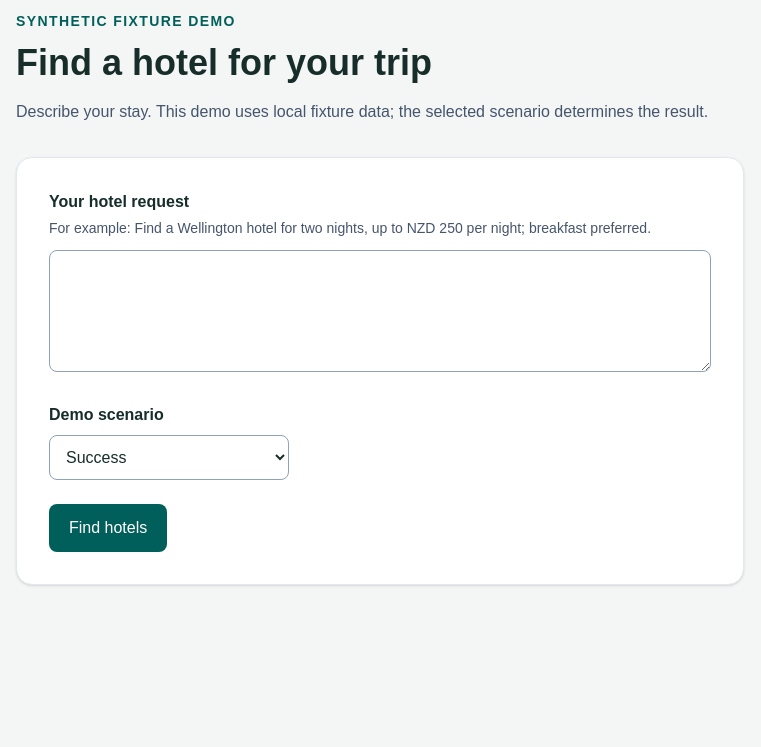
it: recommendation request journey › handles a network failure with preserved input and manual retry
This screenshot has width=761, height=747.
In the text box labelled "Your hotel request": (380, 311) [49, 250, 711, 372], type "Find a Wellington hotel for two nights."
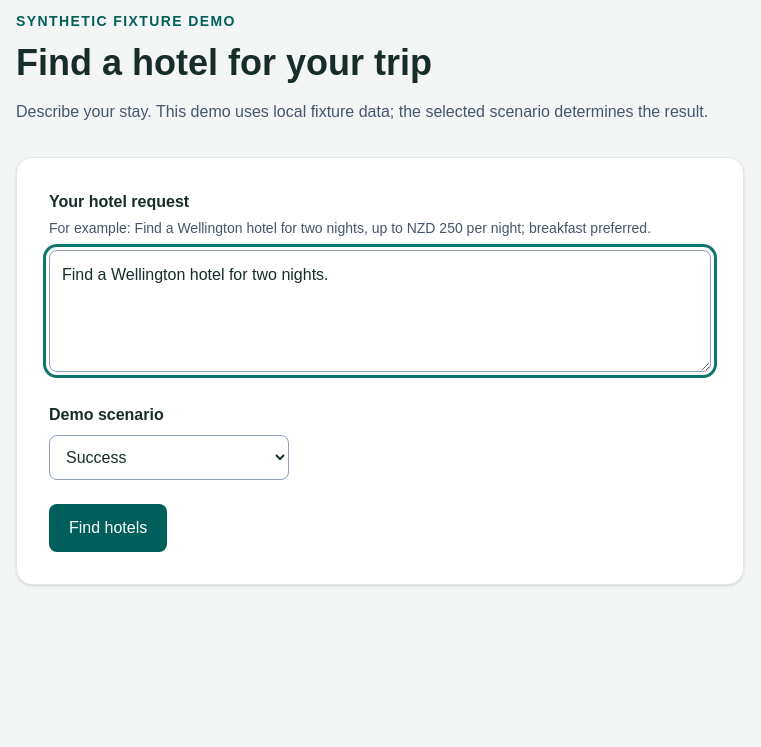
Click the button "Find hotels": (108, 528) [49, 504, 167, 552]
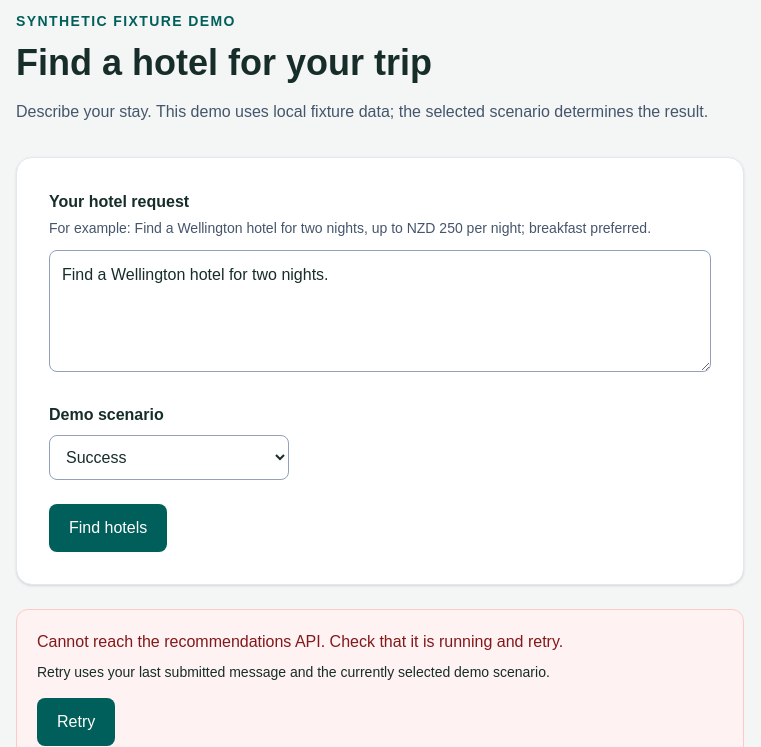
Result: the message shows "Cannot reach the recommendations API" at [37, 633, 563, 650]
Result: the button "Retry" is enabled at [37, 698, 115, 746]
